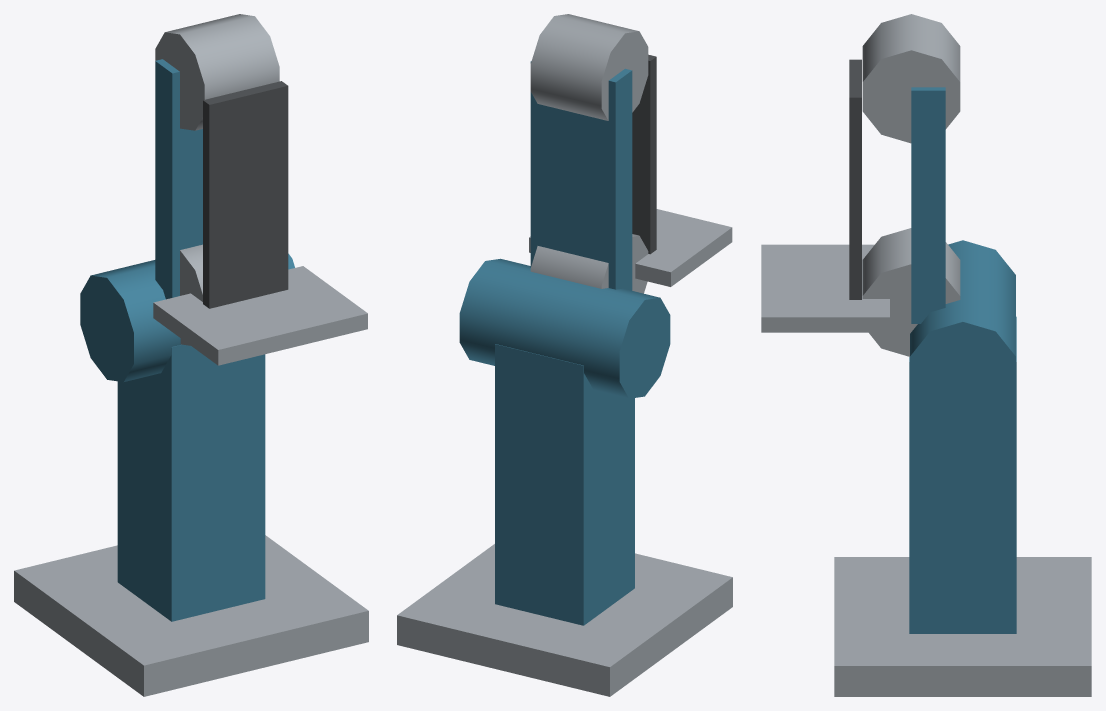
The picture shows the model from 3 angles, left to right: view 1: azimuth 30°, elevation 25°; view 2: azimuth 150°, elevation 25°; view 3: azimuth 270°, elevation 25°; orthographic projection. The views are drawn at different scales.
Visible parts, largest first — view 1: pedestal, foot, belt, rest, drive, backing, roller1, roller0; view 2: pedestal, foot, drive, backing, roller1, rest, belt, roller0; view 3: foot, pedestal, drive, rest, roller1, backing, roller0, belt.
Boxes of the visible parts, x1,y1,x2,y2 form: pedestal: (117,344,265,621); foot: (14,535,368,696); belt: (203,81,288,308); rest: (153,266,367,365); drive: (80,253,294,382); backing: (155,59,202,299); roller1: (155,14,279,130); roller0: (180,244,202,345); pedestal: (495,344,634,625); foot: (397,544,732,696); drive: (459,258,670,398); backing: (530,61,632,290); roller1: (530,14,648,120); rest: (529,209,732,286); belt: (632,54,656,254); roller0: (530,234,648,293); foot: (834,557,1091,696); pedestal: (909,316,1016,633); drive: (910,240,1015,422); rest: (761,244,889,332); roller1: (862,14,960,143); backing: (911,87,945,323); roller0: (862,228,960,356); belt: (849,59,861,299).
Size of the model in its own units: 0.6 by 1.57 by 0.77.
